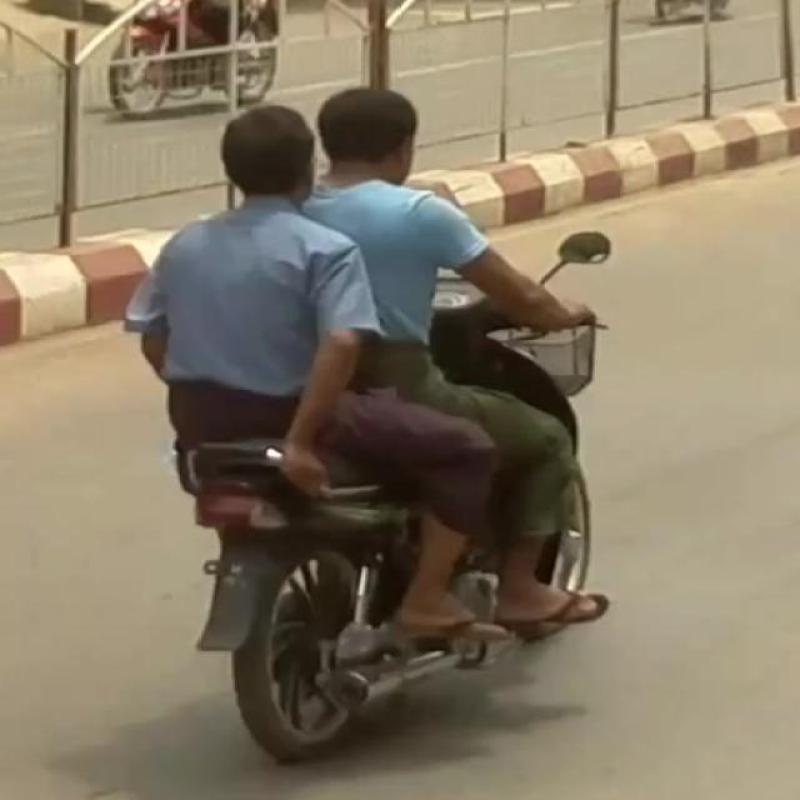nohelmet: (310, 70, 445, 165), (208, 108, 322, 212)
